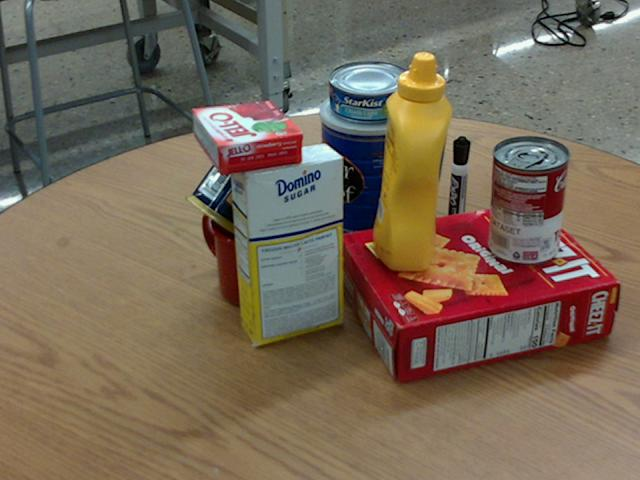cracker_box: (340, 200, 617, 384)
gelatin_box: (192, 98, 302, 174)
large_marker: (446, 137, 468, 242)
master_chef_can: (321, 87, 420, 245)
mug: (202, 193, 300, 306)
mustard_bottle: (373, 51, 451, 270)
potted_meat_can: (185, 127, 317, 255)
sugar_box: (228, 143, 343, 344)
tomato_soup_can: (489, 135, 569, 264)
tuna_fish_can: (329, 60, 411, 121)
